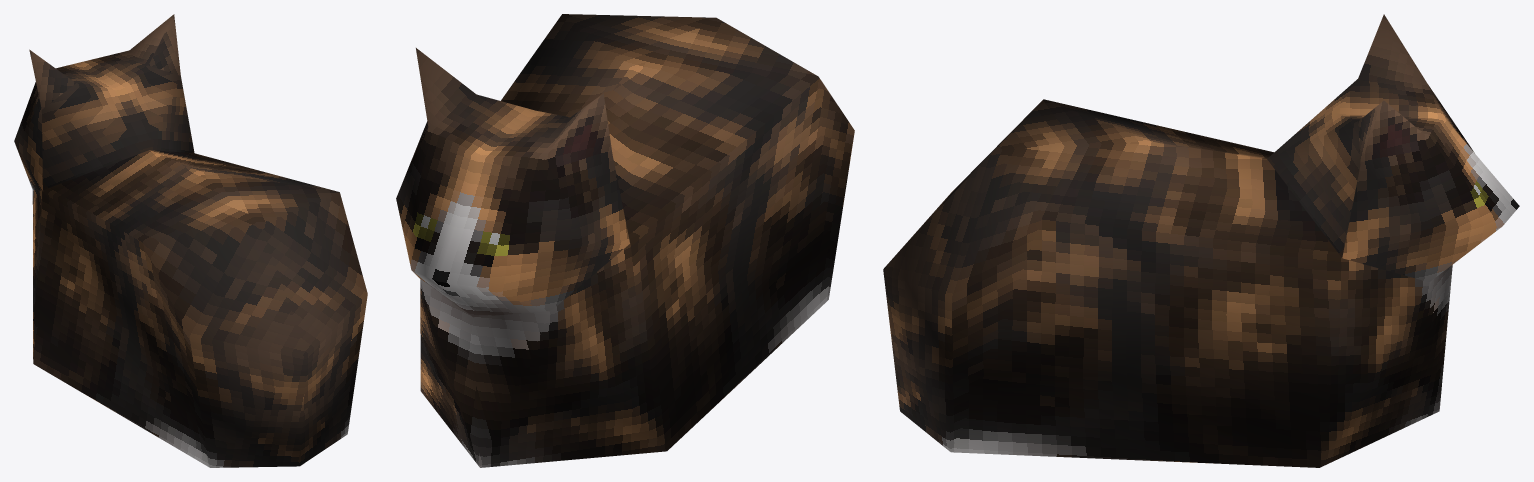
File: CatLoafTurtoise64.fbx
3 renders of one model, left to right at view 1: azimuth 30°, elevation 25°; view 2: azimuth 150°, elevation 25°; view 3: azimuth 270°, elevation 25°, orthographic. The views are drawn at different scales.
Visible parts, largest first — view 1: CatLoafTurtoise64; view 2: CatLoafTurtoise64; view 3: CatLoafTurtoise64.
Part boxes in pixels (left/top/right/bottom): CatLoafTurtoise64: left=14, top=14, right=367, bottom=467; CatLoafTurtoise64: left=396, top=14, right=854, bottom=467; CatLoafTurtoise64: left=883, top=14, right=1519, bottom=467.
Size of the model in its own units: 0.1732 by 0.2427 by 0.3954.
